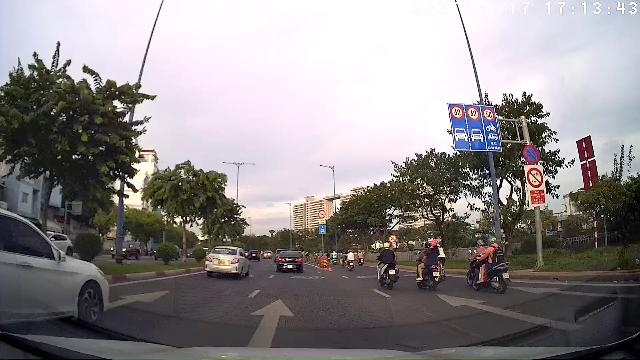103a-cam-oto: (389, 234, 397, 243)
127-toc-do-toi-da-50: (483, 107, 495, 122)
127-toc-do-toi-da-60: (466, 106, 480, 121), (451, 105, 465, 120)
130-cam-dung-va-do-xe: (523, 145, 540, 164)
